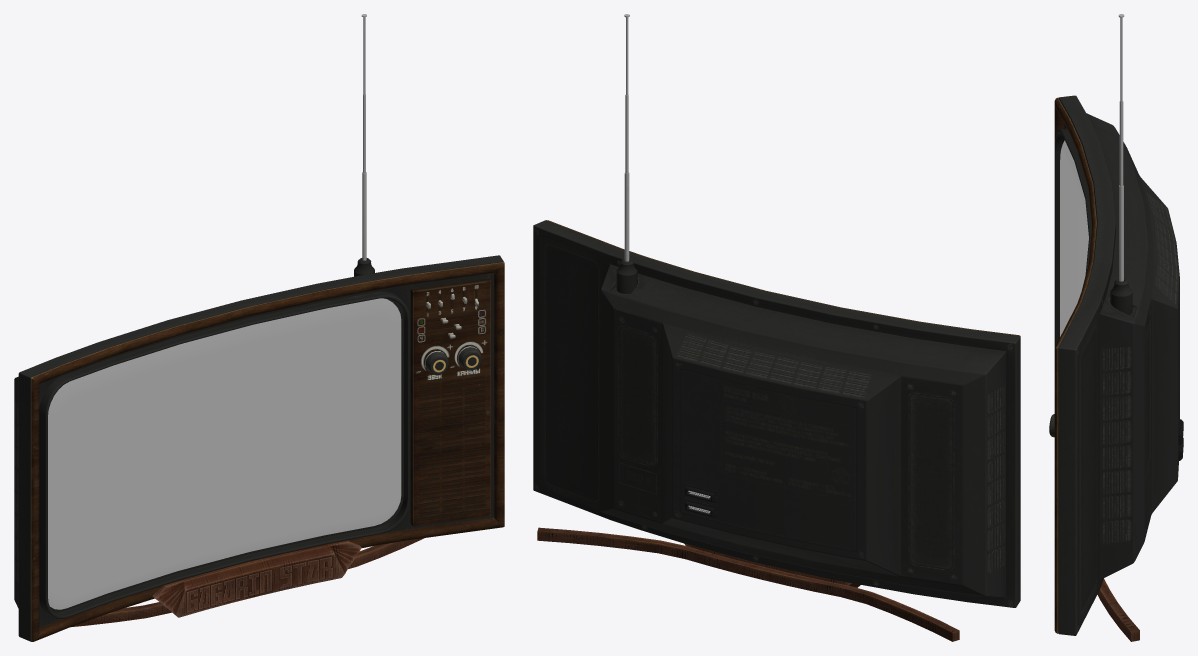
The model's file is LCDTVFixed.glb.
3 renders of one model, left to right at view 1: azimuth 30°, elevation 25°; view 2: azimuth 150°, elevation 25°; view 3: azimuth 270°, elevation 25°, orthographic. The views are drawn at different scales.
Parts seen in each view (by area): view 1: LCD Screen, LCDBox; view 2: LCDBox; view 3: LCDBox, LCD Screen.
Part boxes in pixels (<box>): LCD Screen: <box>48,298,401,609</box>; LCDBox: <box>14,14,504,641</box>; LCDBox: <box>533,14,1020,641</box>; LCDBox: <box>1049,14,1183,641</box>; LCD Screen: <box>1060,140,1088,336</box>.
Bounding box in the file's own units: 1.9 × 2.03 × 0.4242.
2 materials, 1 textured.
